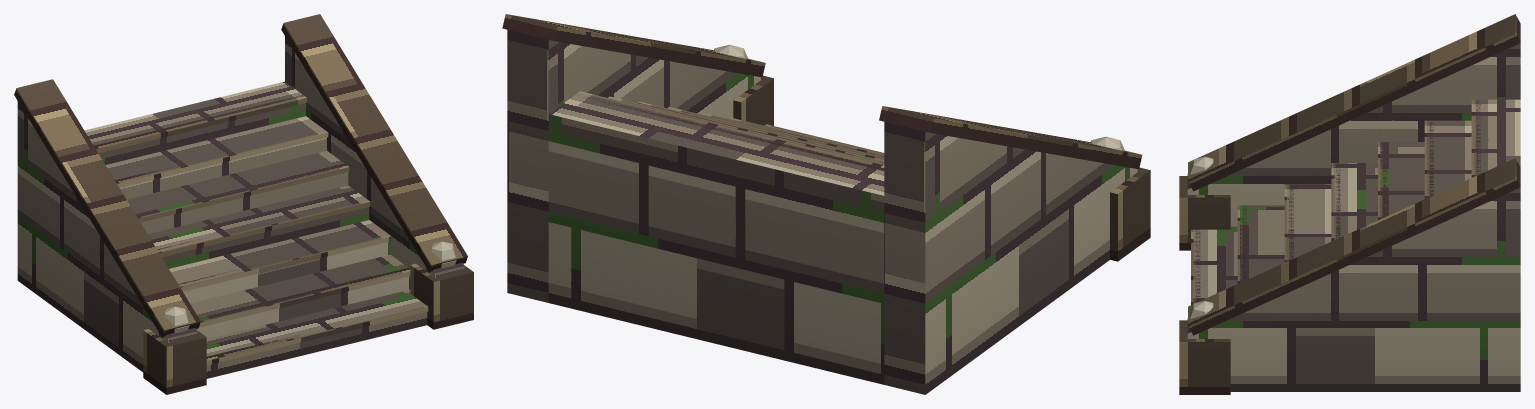
The model's file is scene_stairs_main.glb.
3 views of the same model, side by side, from view 1: azimuth 30°, elevation 25°; view 2: azimuth 150°, elevation 25°; view 3: azimuth 270°, elevation 25° (orthographic). The views are drawn at different scales.
Visible parts, largest first — view 1: scene_stairs_main; view 2: scene_stairs_main; view 3: scene_stairs_main.
Part boxes in pixels (x1,y1,x2,y2): scene_stairs_main: (14,14,473,394); scene_stairs_main: (502,14,1150,394); scene_stairs_main: (1179,14,1520,394).
Bounding box in the file's own units: 3.36 × 2.04 × 2.92.
2 materials, 1 textured.
